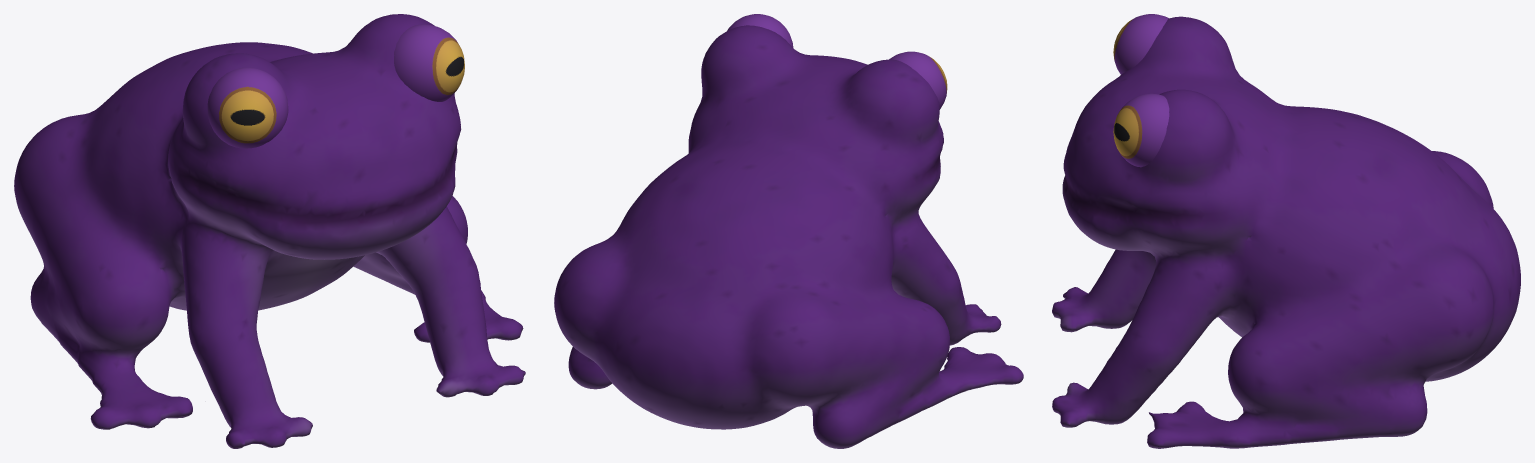
The model's file is frog.glb.
The picture shows the model from 3 angles, left to right: view 1: azimuth 30°, elevation 25°; view 2: azimuth 150°, elevation 25°; view 3: azimuth 270°, elevation 25°; orthographic projection. The views are drawn at different scales.
Visible parts, largest first — view 1: frog; view 2: frog; view 3: frog.
Boxes of the visible parts, x1,y1,x2,y2 form: frog: (14,14,525,448); frog: (554,14,1023,448); frog: (1052,14,1520,448).
Bounding box in the file's own units: 0.1234 × 0.095 × 0.1289.
3 materials, 2 textured.
